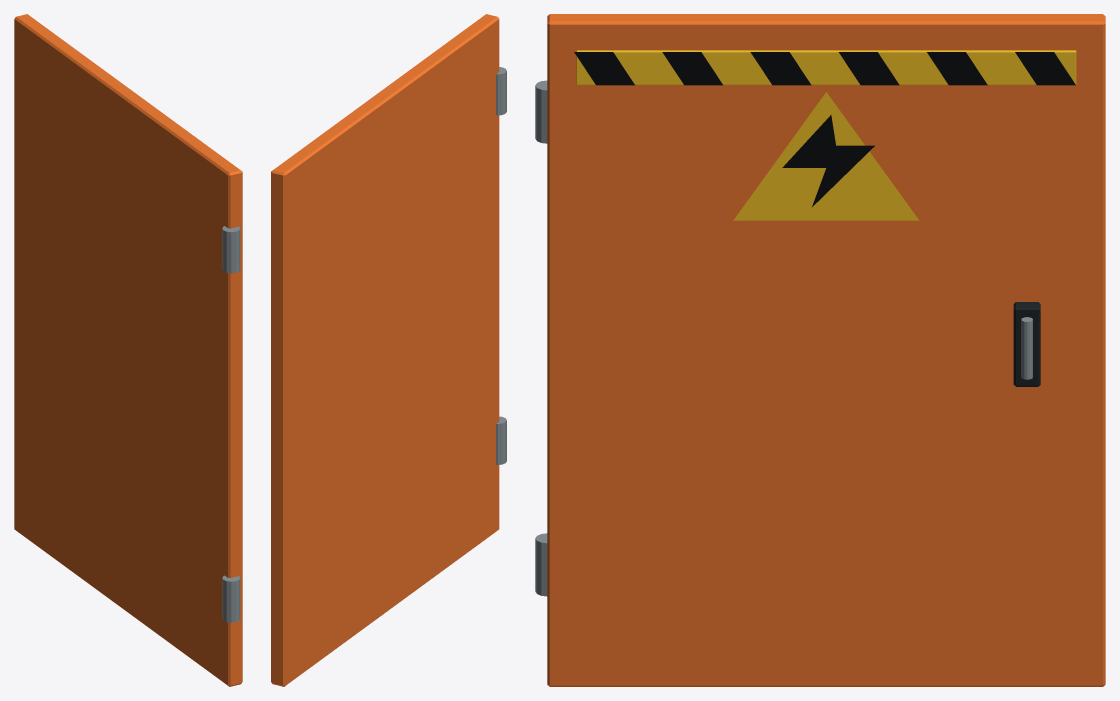
File: SM_MP_Power_CombinerDoor.fbx
3 renders of one model, left to right at view 1: azimuth 30°, elevation 25°; view 2: azimuth 150°, elevation 25°; view 3: azimuth 270°, elevation 25°, orthographic. The views are drawn at different scales.
Parts seen in each view (by area): view 1: SM_MP_Power_CombinerDoor; view 2: SM_MP_Power_CombinerDoor; view 3: SM_MP_Power_CombinerDoor.
Boxes of the visible parts, left/top/right/bottom form: SM_MP_Power_CombinerDoor: left=14, top=14, right=242, bottom=686; SM_MP_Power_CombinerDoor: left=271, top=14, right=506, bottom=686; SM_MP_Power_CombinerDoor: left=535, top=14, right=1105, bottom=686.
Bounding box in the file's own units: 11.6 × 116 × 150.
